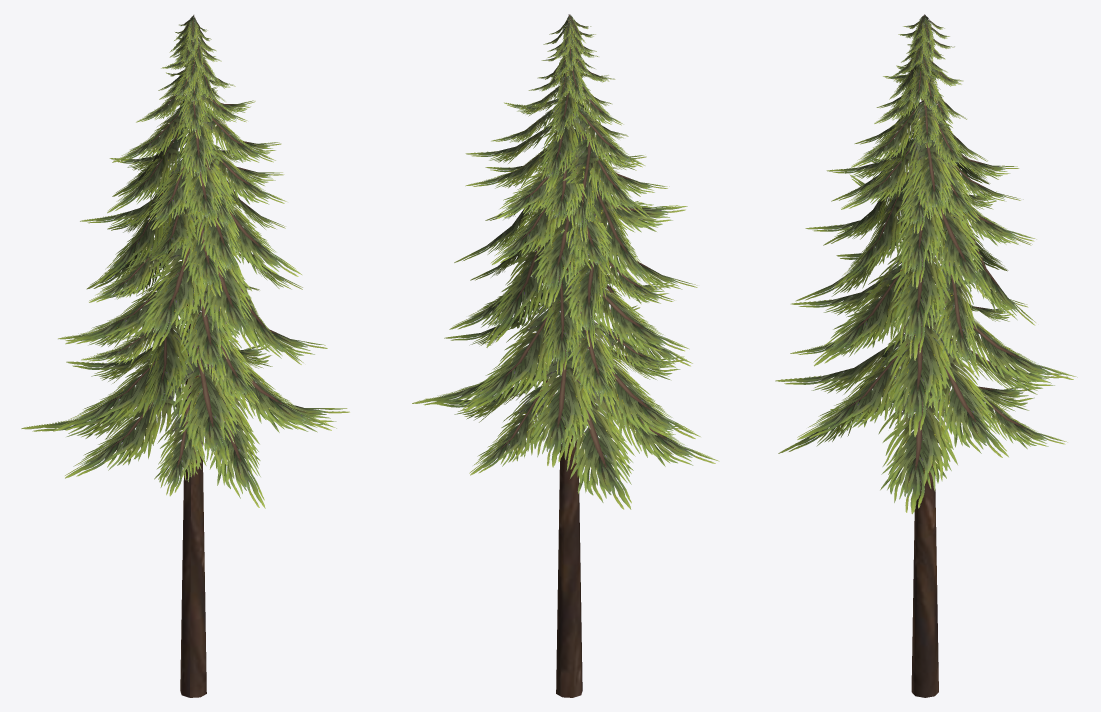
Rendered from 'PineTree.fbx.
The picture shows the model from 3 angles, left to right: view 1: azimuth 30°, elevation 25°; view 2: azimuth 150°, elevation 25°; view 3: azimuth 270°, elevation 25°; orthographic projection.
Parts seen in each view (by area): view 1: leafs, body; view 2: leafs, body; view 3: leafs, body.
Boxes of the visible parts, x1,y1,x2,y2 form: leafs: (21, 15, 349, 508); body: (180, 132, 206, 697); leafs: (412, 14, 719, 509); body: (556, 35, 582, 697); leafs: (775, 14, 1077, 514); body: (911, 54, 938, 697).
Size of the model in its own units: 2.95 by 6.4 by 2.77.
Materials: 2 (2 with a texture image).
